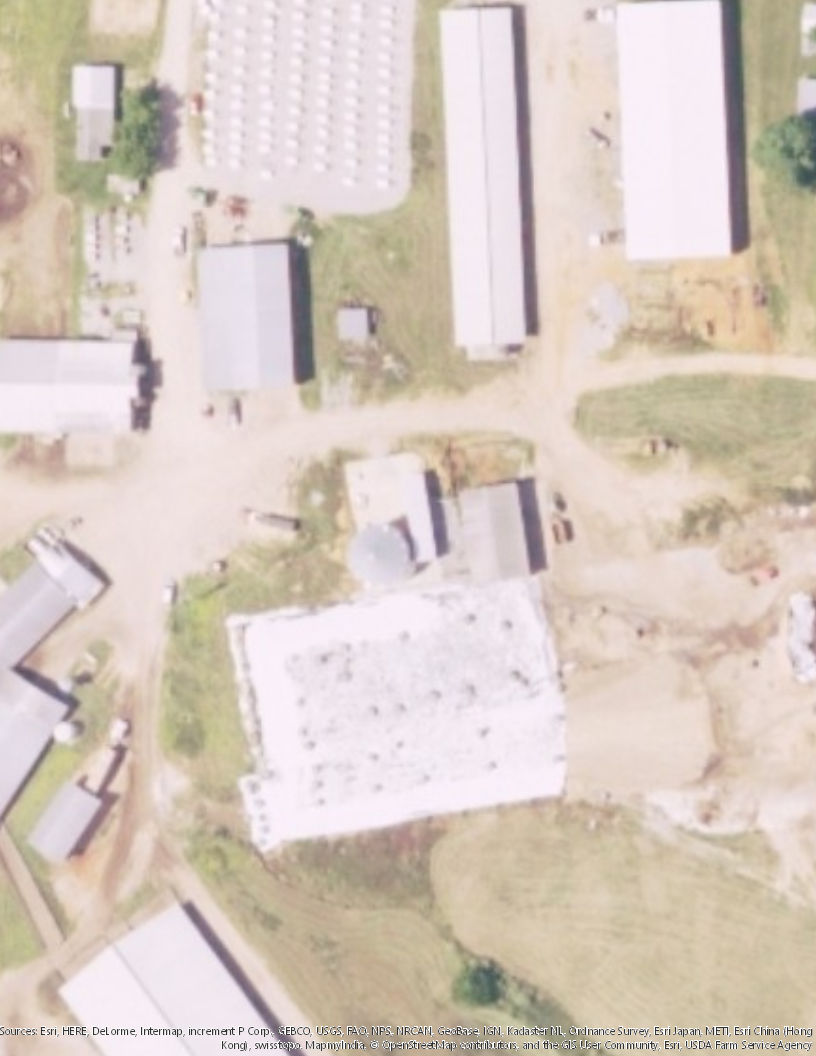cafo: (1, 527, 129, 869), (603, 1, 758, 280), (54, 894, 294, 1056), (432, 1, 531, 369), (183, 236, 320, 410), (1, 333, 168, 436)
